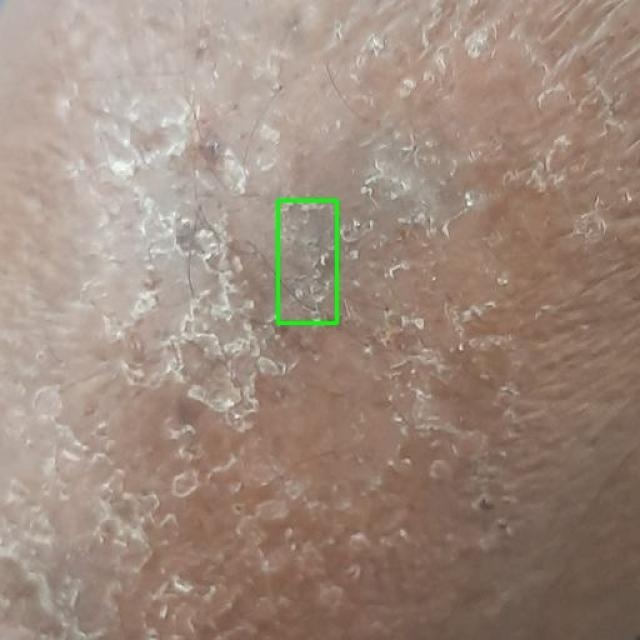Eczema: (278, 200, 336, 322)
